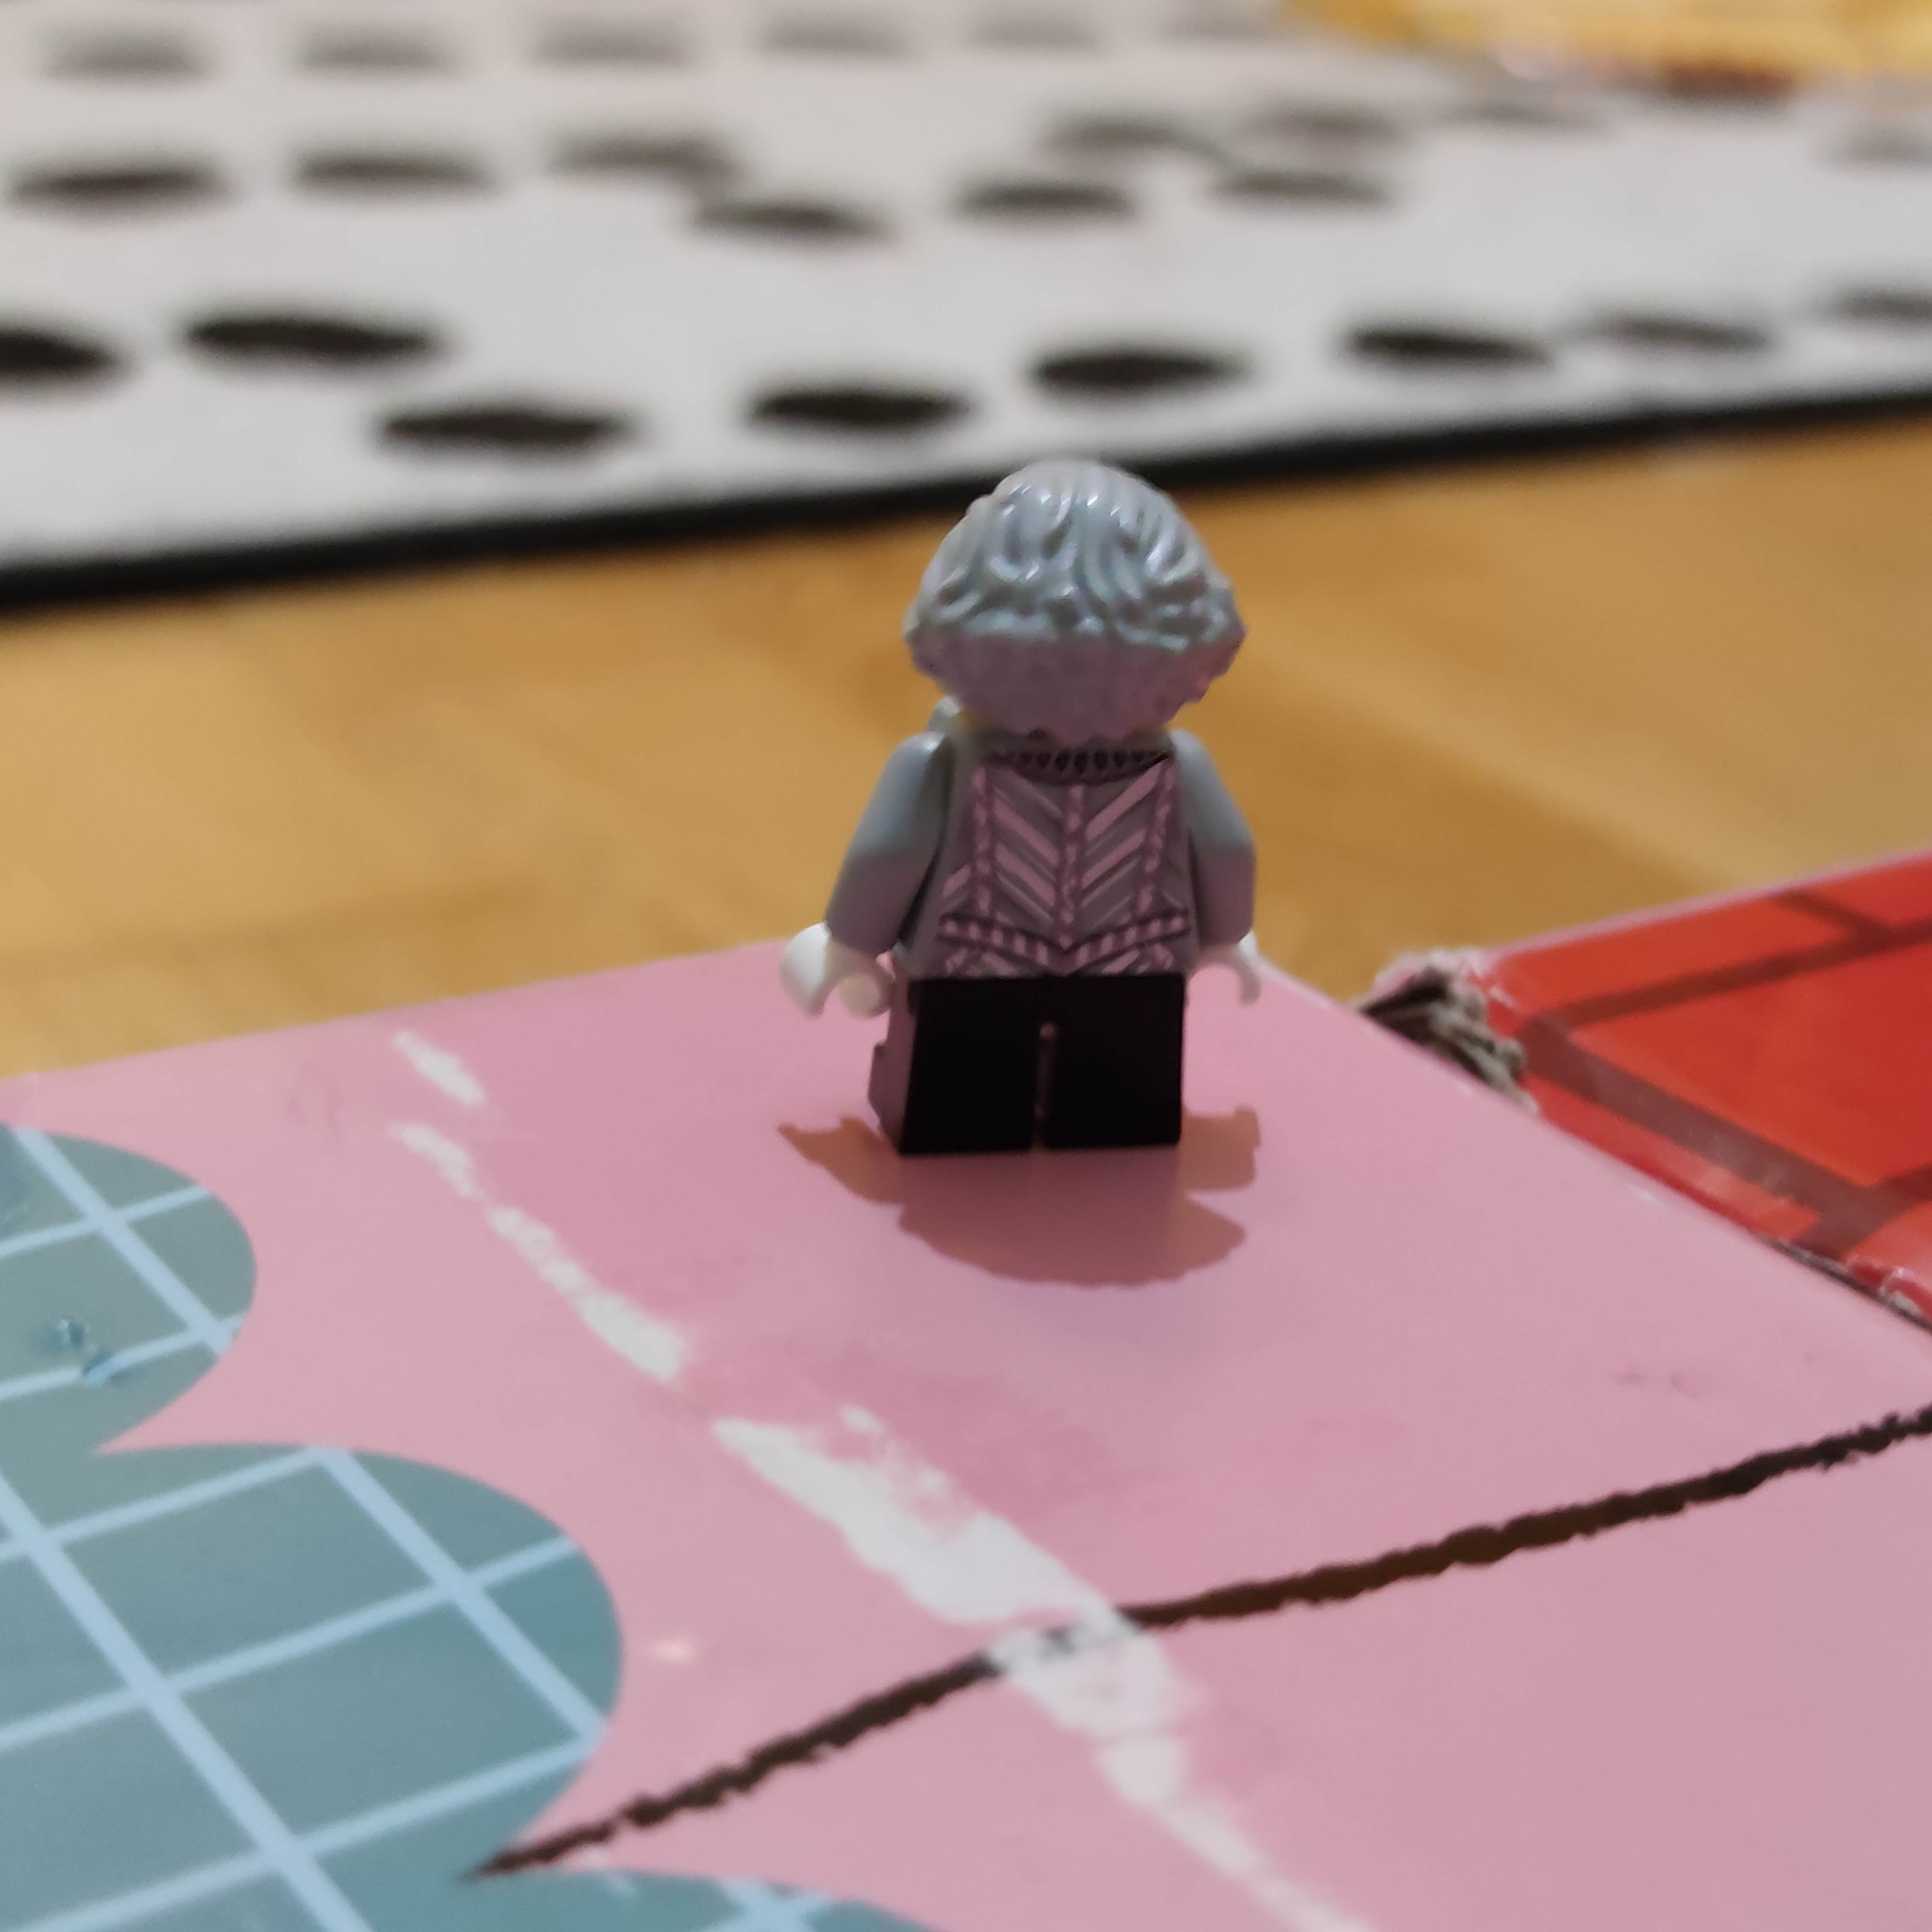lego: (775, 449, 1272, 1150)
